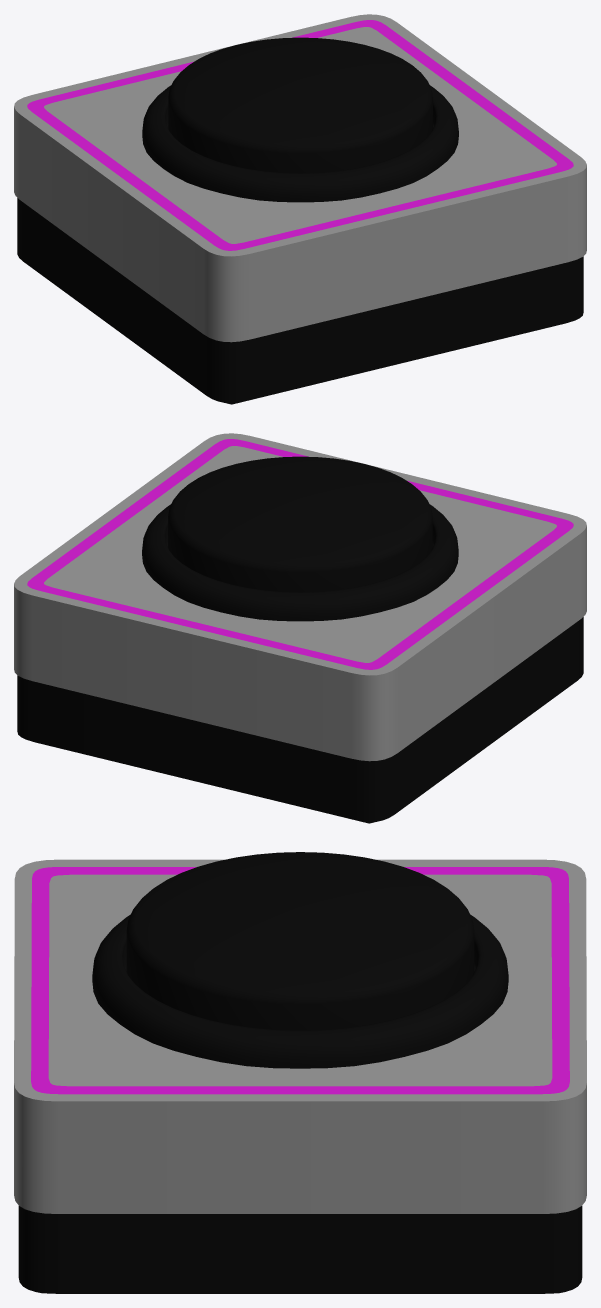
Rendered from m_PAL_Button.FBX.
The picture shows the model from 3 angles, top to bottom: view 1: azimuth 30°, elevation 25°; view 2: azimuth 150°, elevation 25°; view 3: azimuth 270°, elevation 25°; orthographic projection. The views are drawn at different scales.
Visible parts, largest first — view 1: pal_silver_Button, PAL_Button, pal_buttonBase; view 2: pal_silver_Button, PAL_Button, pal_buttonBase; view 3: pal_silver_Button, PAL_Button, pal_buttonBase.
Boxes of the visible parts, left/top/right/bottom form: pal_silver_Button: left=14, top=14, right=586, bottom=404; PAL_Button: left=168, top=37, right=432, bottom=173; pal_buttonBase: left=142, top=85, right=458, bottom=202; pal_silver_Button: left=14, top=433, right=586, bottom=823; PAL_Button: left=168, top=456, right=432, bottom=592; pal_buttonBase: left=142, top=504, right=458, bottom=621; pal_silver_Button: left=14, top=859, right=586, bottom=1293; PAL_Button: left=126, top=852, right=474, bottom=1030; pal_buttonBase: left=92, top=914, right=508, bottom=1068.
Size of the model in its own units: 1.97 by 1.06 by 1.97.
